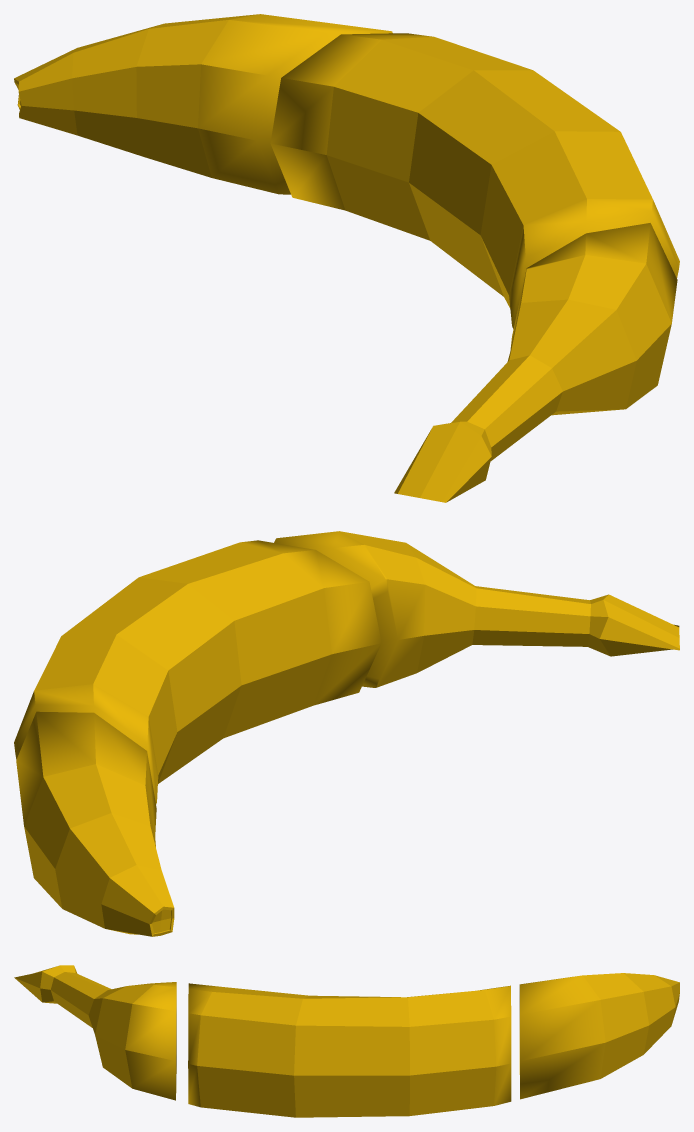
The model's file is banana_2cut_final.obj.
3 renders of one model, top to bottom at view 1: azimuth 30°, elevation 25°; view 2: azimuth 150°, elevation 25°; view 3: azimuth 270°, elevation 25°, orthographic. The views are drawn at different scales.
Visible parts, largest first — view 1: Banana_Cylinder.001, Banana_Cylinder.002, Banana_Cylinder; view 2: Banana_Cylinder.001, Banana_Cylinder.002, Banana_Cylinder; view 3: Banana_Cylinder.001, Banana_Cylinder.002, Banana_Cylinder.
Boxes of the visible parts, x1=… form: Banana_Cylinder.001: x1=270, y1=33, x2=679, y2=328; Banana_Cylinder.002: x1=14, y1=14, x2=392, y2=194; Banana_Cylinder: x1=394, y1=223, x2=677, y2=502; Banana_Cylinder.001: x1=14, y1=540, x2=381, y2=804; Banana_Cylinder.002: x1=16, y1=711, x2=174, y2=936; Banana_Cylinder: x1=274, y1=531, x2=679, y2=687; Banana_Cylinder.001: x1=188, y1=983, x2=511, y2=1117; Banana_Cylinder.002: x1=519, y1=973, x2=679, y2=1099; Banana_Cylinder: x1=14, y1=965, x2=176, y2=1100.
Bounding box in the file's own units: 0.1554 × 0.0596 × 0.3127.
